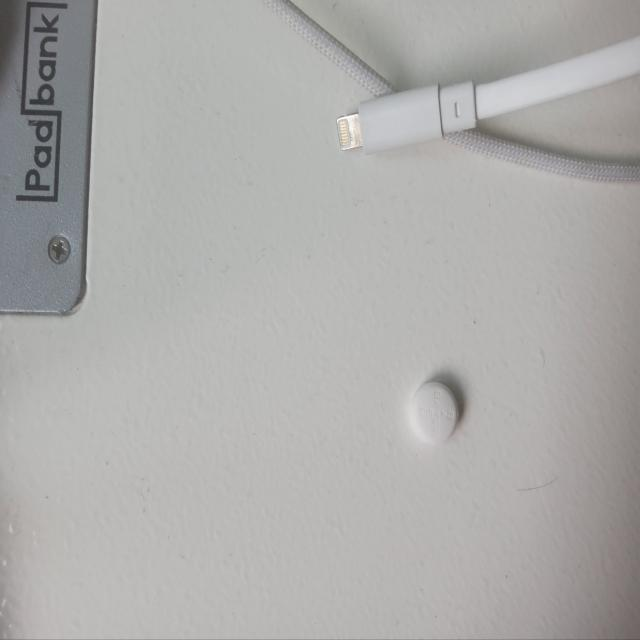-: (408, 370, 463, 447)
